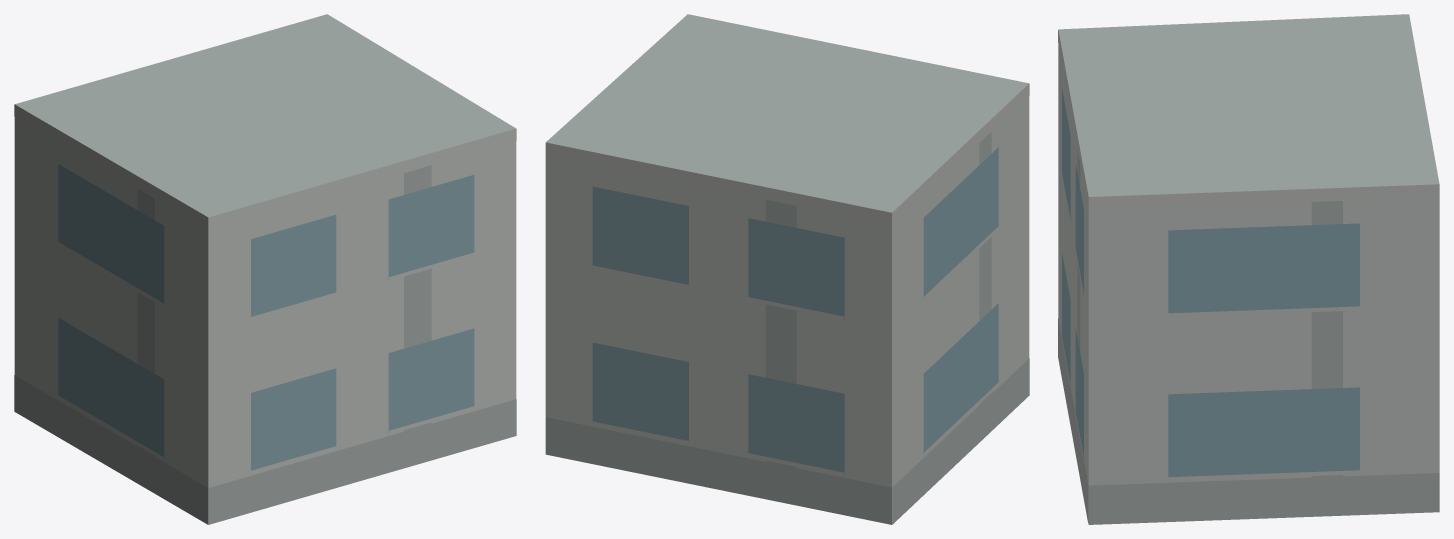
The model's file is survey-upis-32726081.glb.
The picture shows the model from 3 angles, left to right: view 1: azimuth 30°, elevation 25°; view 2: azimuth 150°, elevation 25°; view 3: azimuth 270°, elevation 25°; orthographic projection. The views are drawn at different scales.
Visible parts, largest first — view 1: survey-upis-32726081.tmp; view 2: survey-upis-32726081.tmp; view 3: survey-upis-32726081.tmp.
Boxes of the visible parts, x1,y1,x2,y2 form: survey-upis-32726081.tmp: [14, 14, 516, 524]; survey-upis-32726081.tmp: [545, 14, 1029, 524]; survey-upis-32726081.tmp: [1058, 14, 1439, 524].
Bounding box in the file's own units: 7.31 × 6.1 × 6.44.
